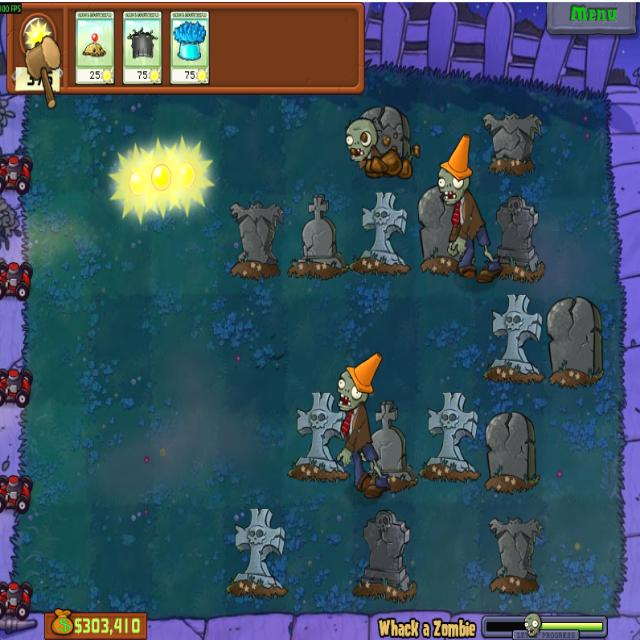conehead: (332, 353, 383, 413), (435, 135, 476, 208)
grave: (355, 506, 416, 600), (226, 508, 288, 595), (418, 394, 479, 482), (289, 390, 346, 481), (547, 293, 604, 384), (488, 294, 544, 384), (486, 512, 544, 597), (481, 412, 540, 494), (227, 201, 286, 281), (289, 196, 348, 276), (492, 196, 545, 281), (357, 193, 412, 273), (366, 402, 414, 484), (481, 108, 542, 172), (417, 186, 462, 272), (367, 106, 414, 157)
gravebuster: (123, 11, 162, 84)
zombie: (340, 117, 378, 163)
